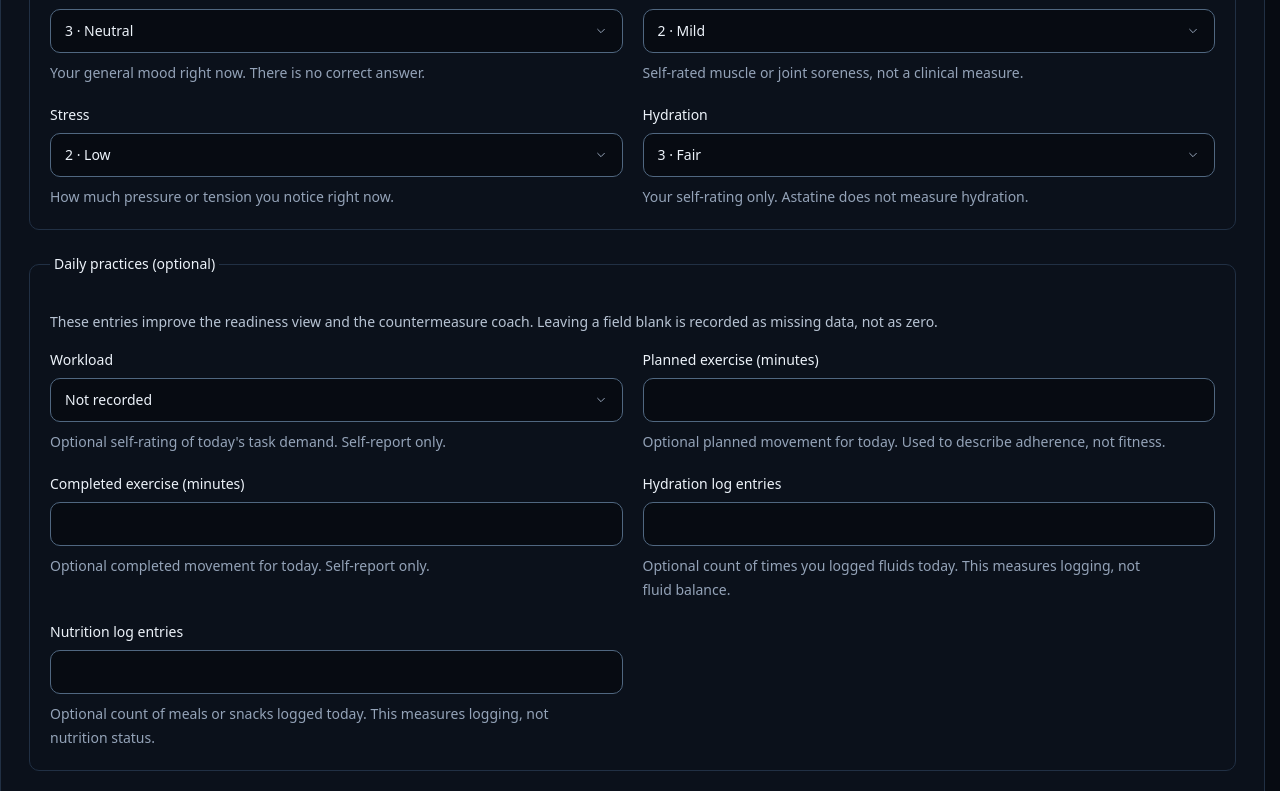
Test: CheckInForm › stores optional daily practices without treating blanks as zero
(page scrolled)
Select "4 · High" in the dropdown labelled "Workload" at [336, 400], box [50,378,622,422]
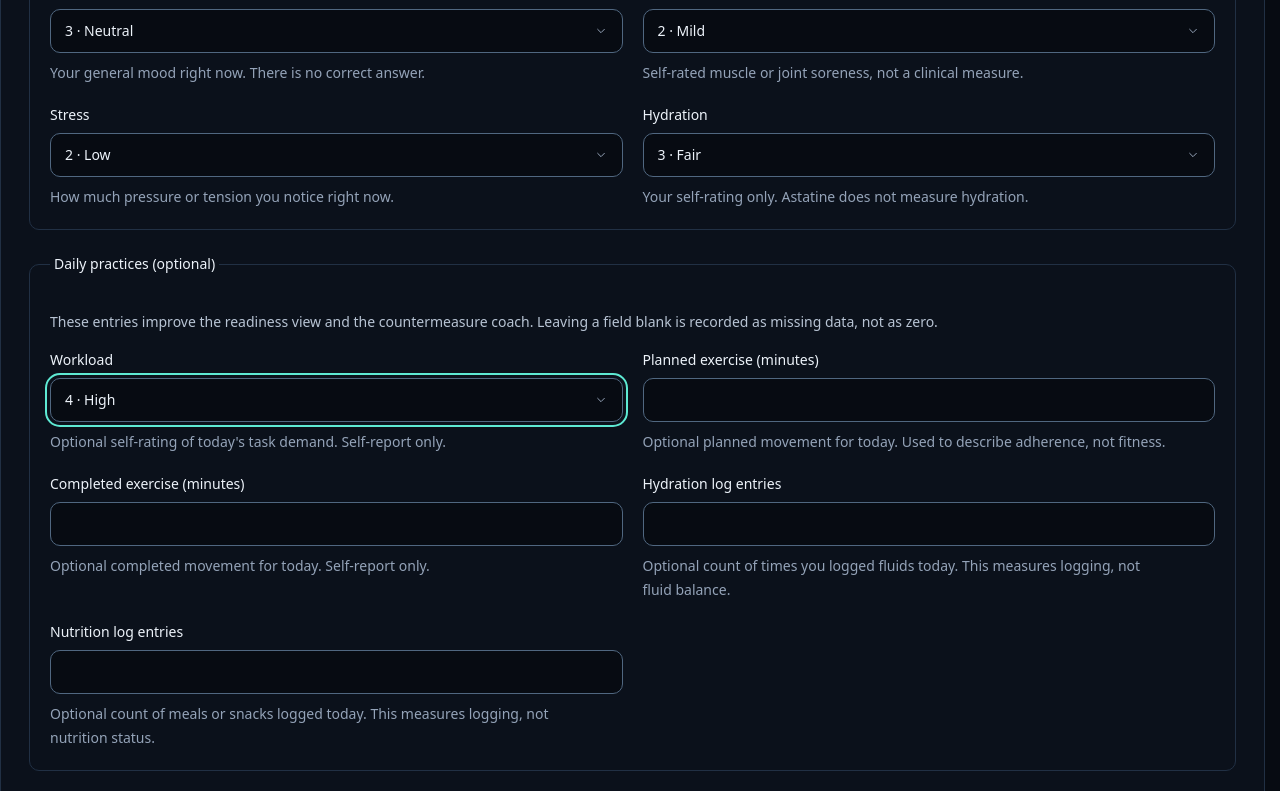
Type "45" into the number field labelled "Planned exercise (minutes)".
click(929, 400); type("45")  # box [642,378,1215,422]
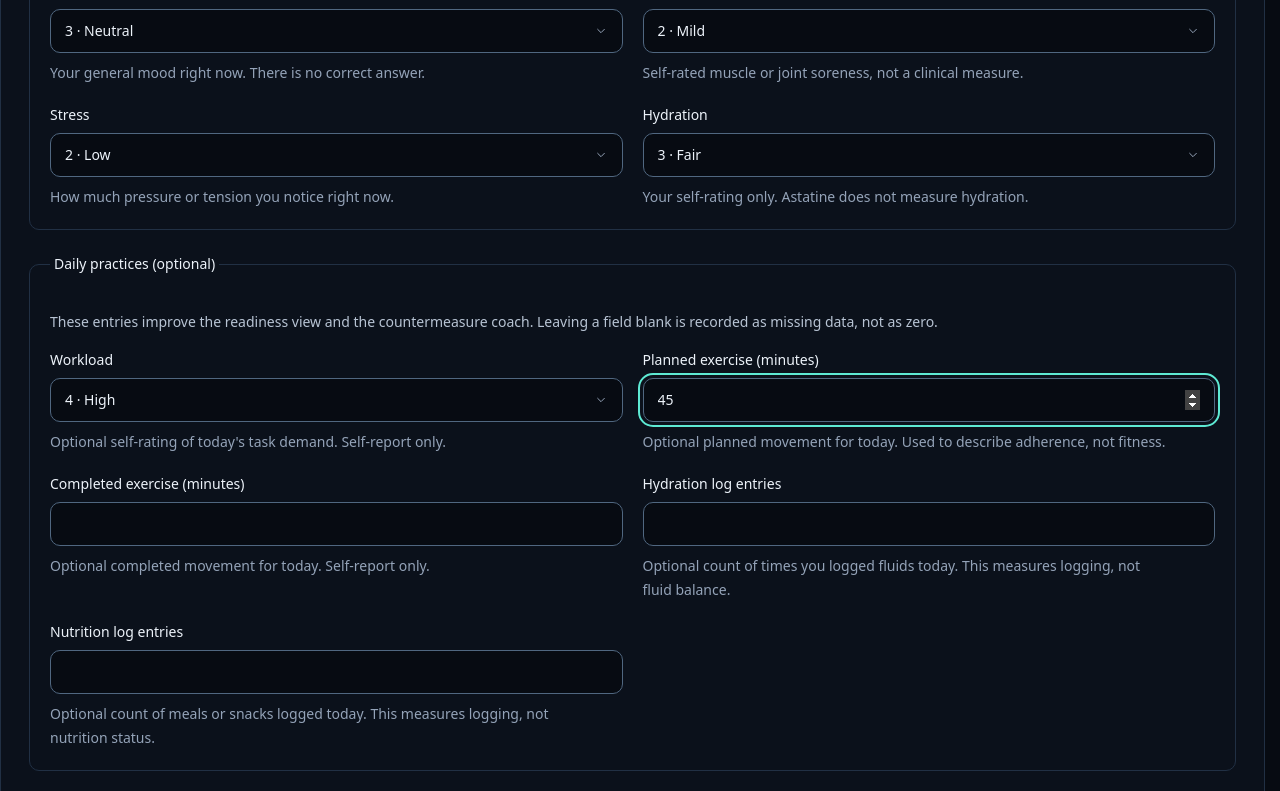
Type "30" into the number field labelled "Completed exercise (minutes)".
click(336, 524); type("30")  # box [50,502,622,546]
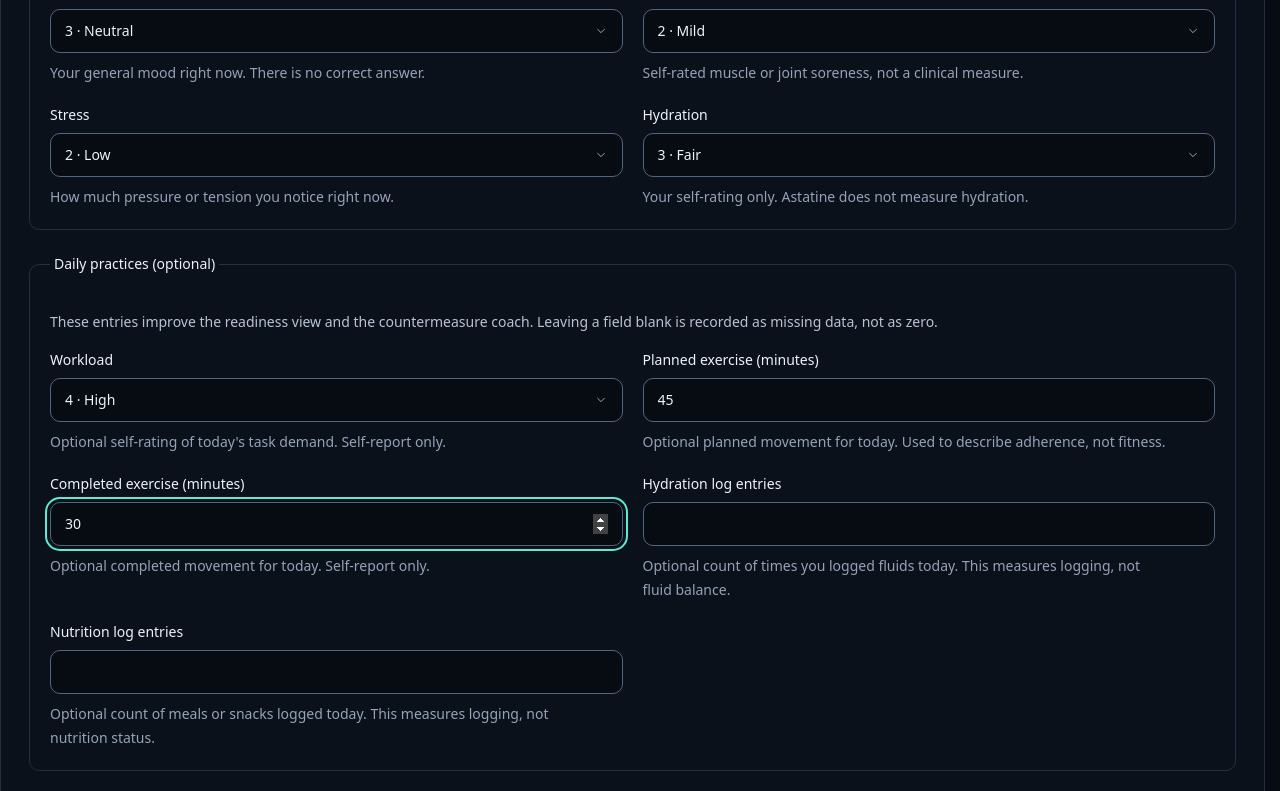
Type "3" into the number field labelled "Hydration log entries".
click(929, 524); type("3")  # box [642,502,1215,546]
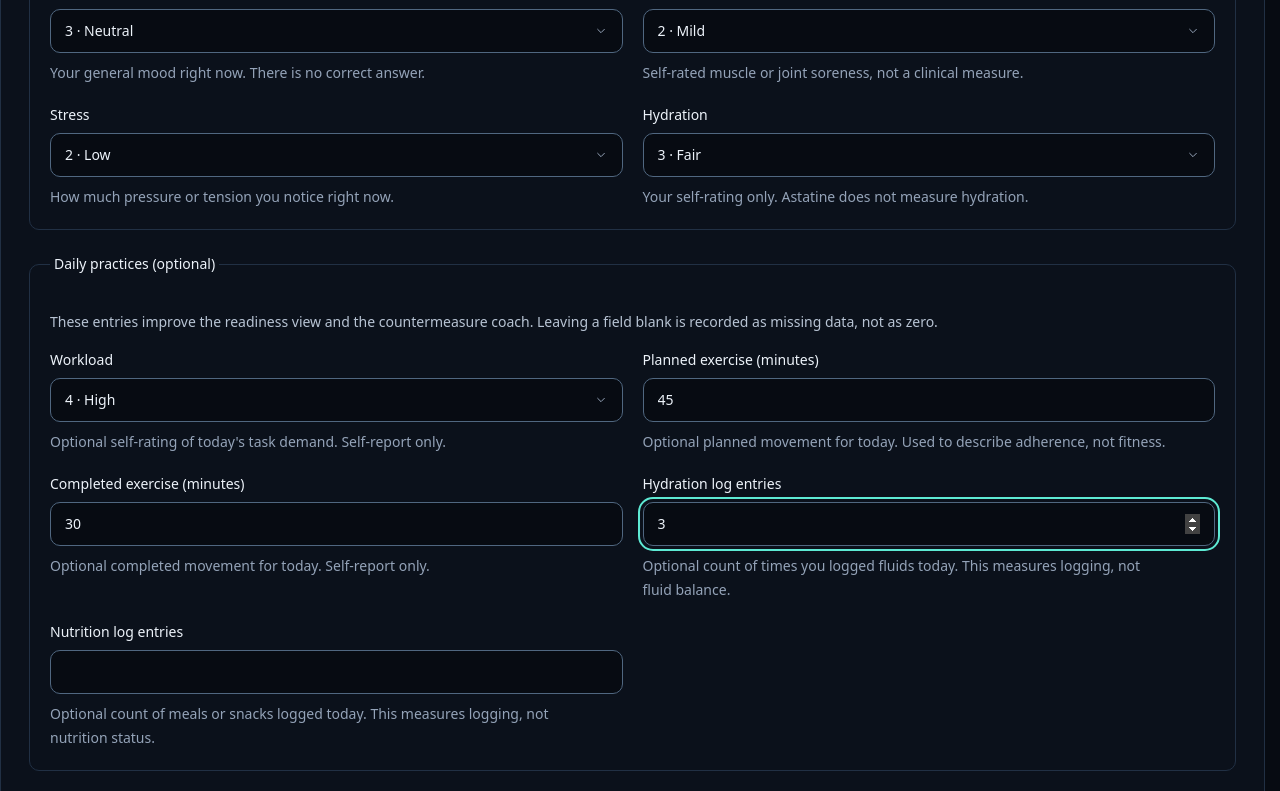
Type "2" into the number field labelled "Nutrition log entries".
click(336, 672); type("2")  # box [50,650,622,694]
(page scrolled)
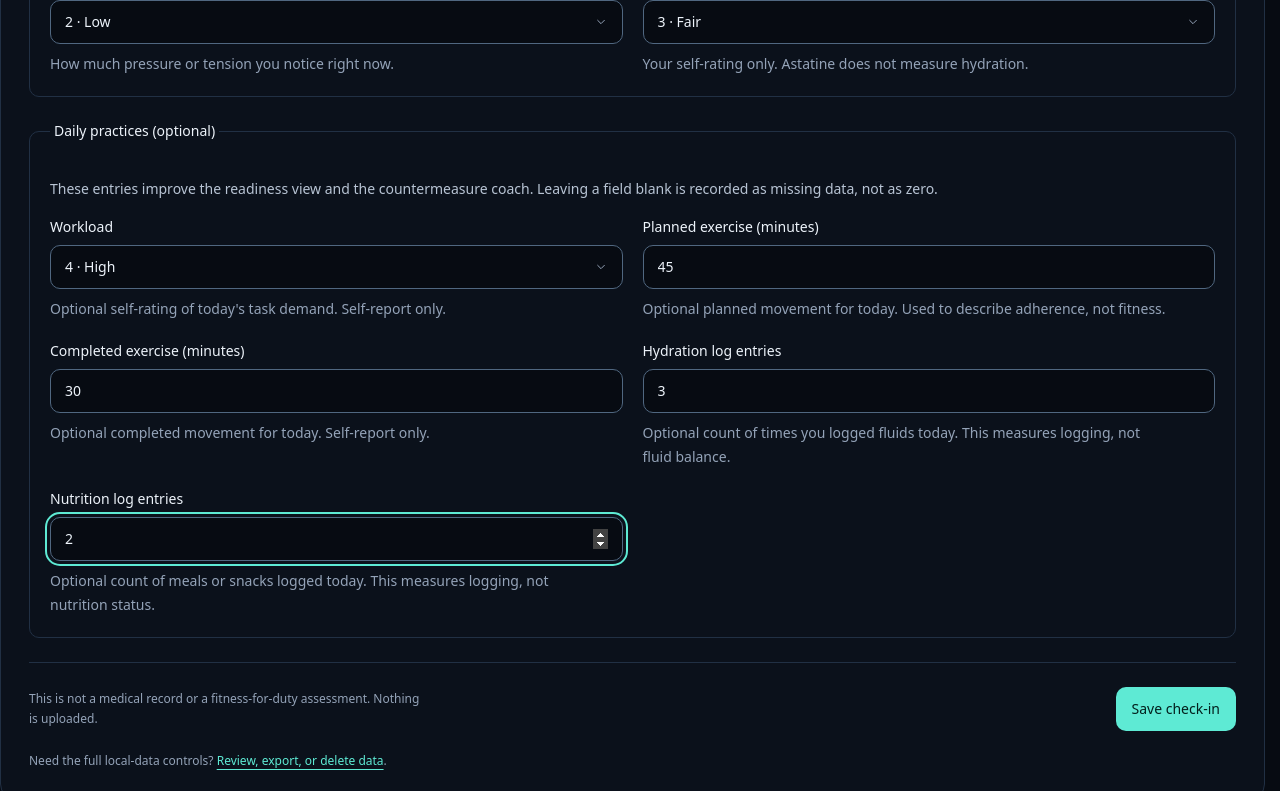
Click the button "Save check-in".
click(1176, 709)  # box [1116,687,1236,731]
(page scrolled)
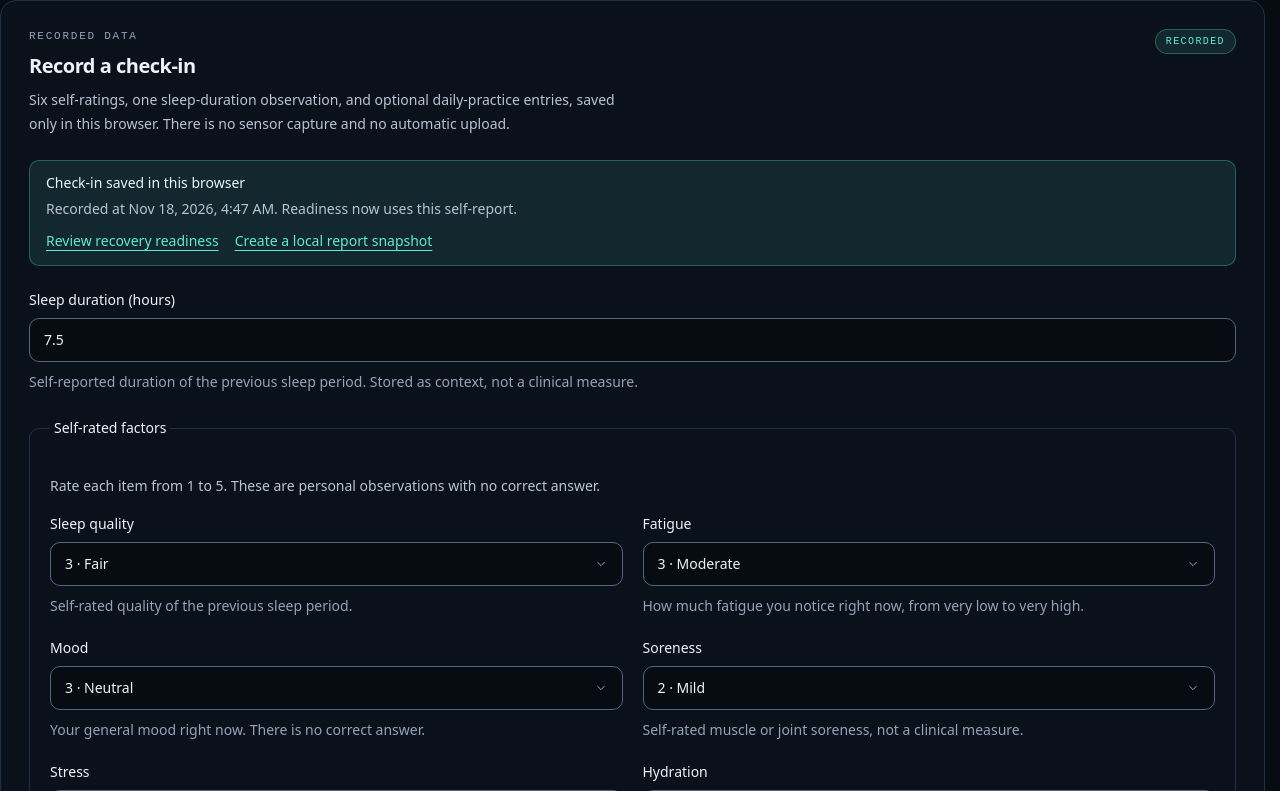
Check: the text "Check-in saved in this browser" is shown, box [46,173,245,192]
